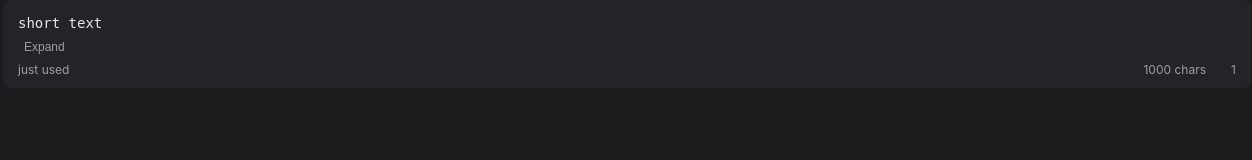
Test: ClipboardList › fetches the full text only when a truncated row is expanded
The width and height of the screenshot is (1252, 160).
Expected: the text "FULL CONTENT" is not shown
Click the button "Expand": click(44, 47) [18,39,71,55]
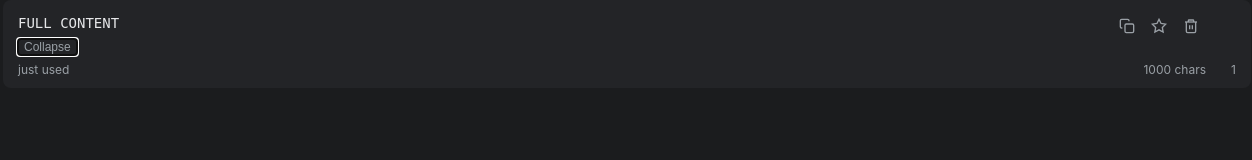
Now the text "FULL CONTENT" is shown, box [18,15,119,31]
